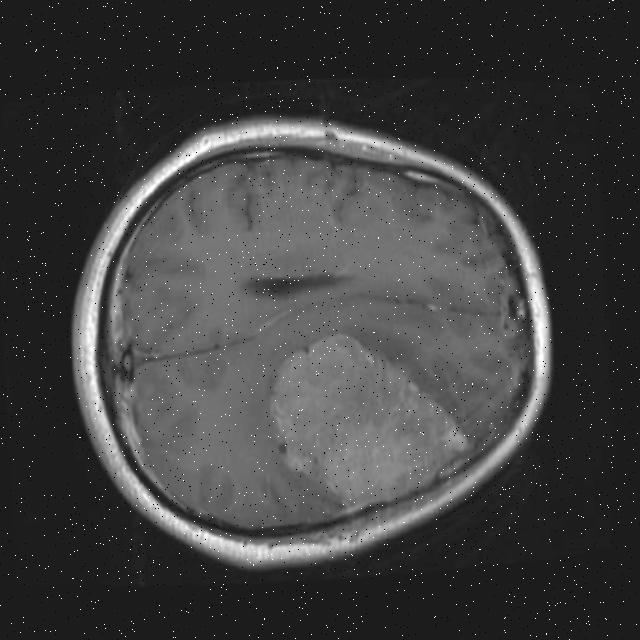Meningioma: (259, 322, 476, 515)
